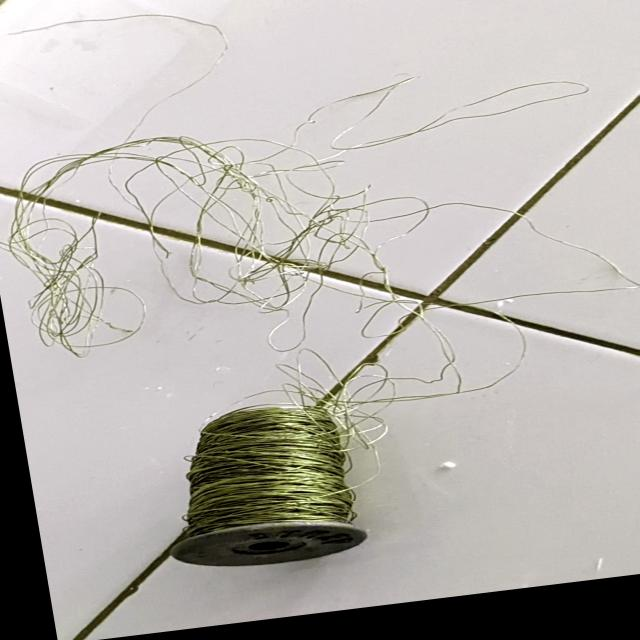Wire Coil: (121, 384, 413, 588)
